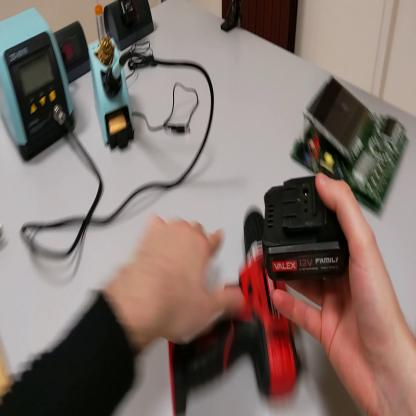electric screwdriver: (172, 197, 300, 415)
hand: (272, 172, 409, 406), (119, 215, 247, 352)
low voltage board: (291, 77, 411, 216)
socket: (54, 13, 91, 83), (104, 2, 155, 42)
welder base: (87, 5, 136, 156)
welder probe tip: (108, 49, 135, 88)
welder station: (2, 11, 77, 167)
working area: (2, 335, 17, 403)
